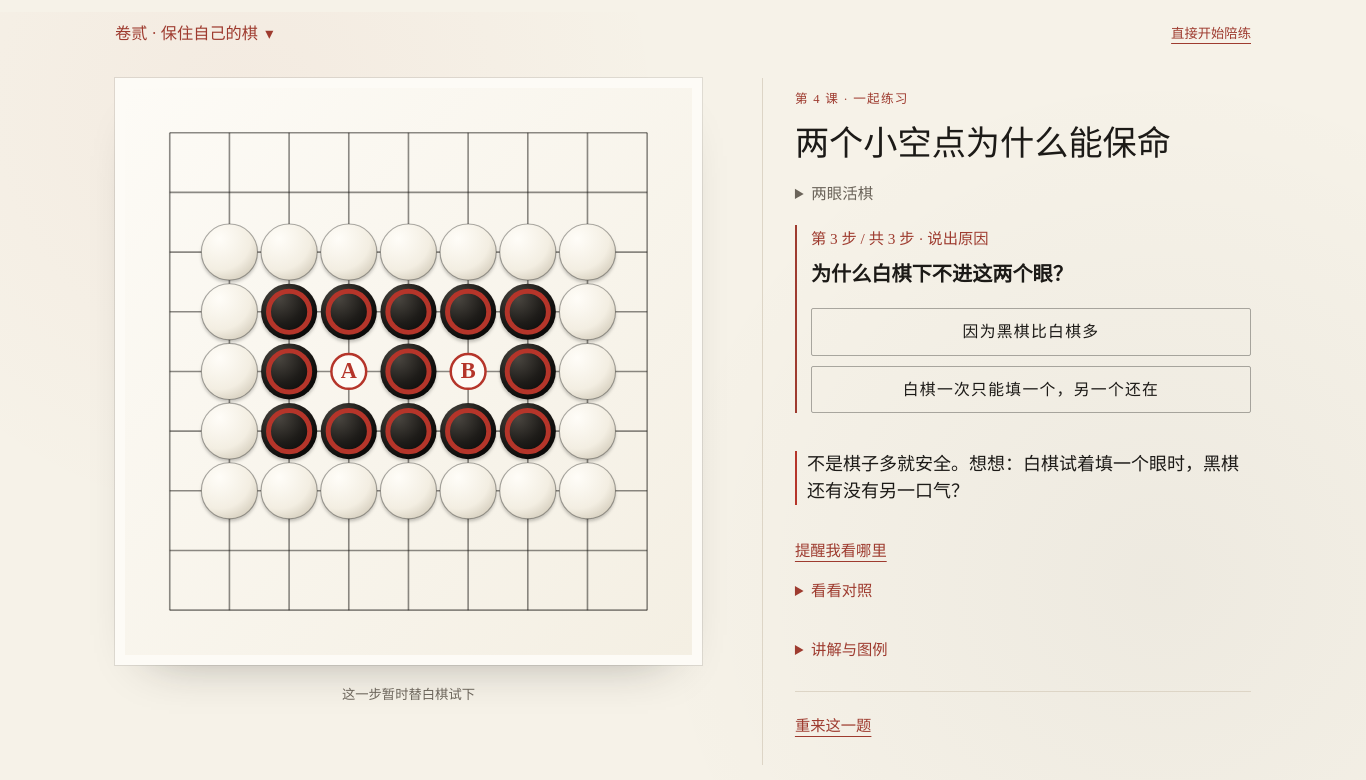
Scenario: 生存章节界面 › 两眼需要自己选原因，一眼对照可以查看
Earlier steps of the test are not shown.
Click the button "白棋一次只能填一个，另一个还在": point(1031, 389) [811,366,1251,413]
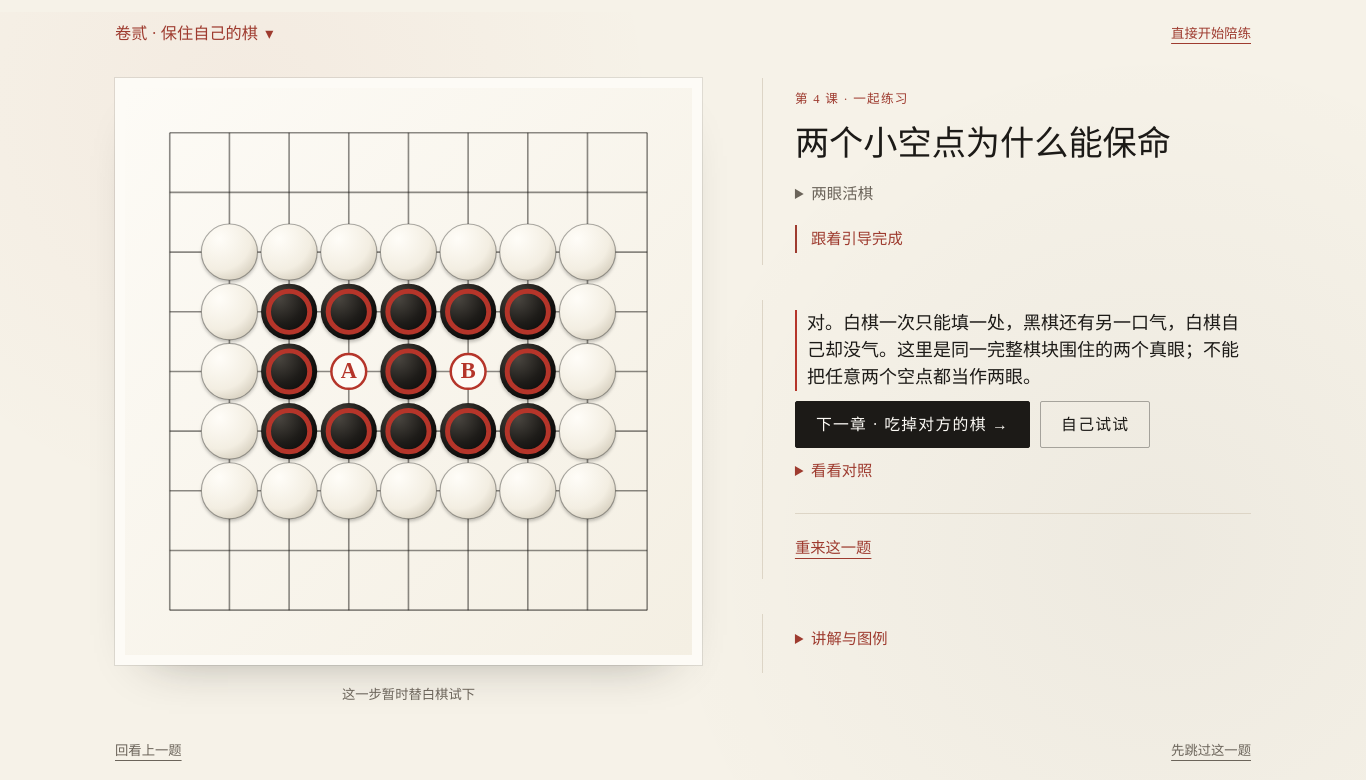
Expected: the message shows "两个真眼", [807,313,1239,387]
